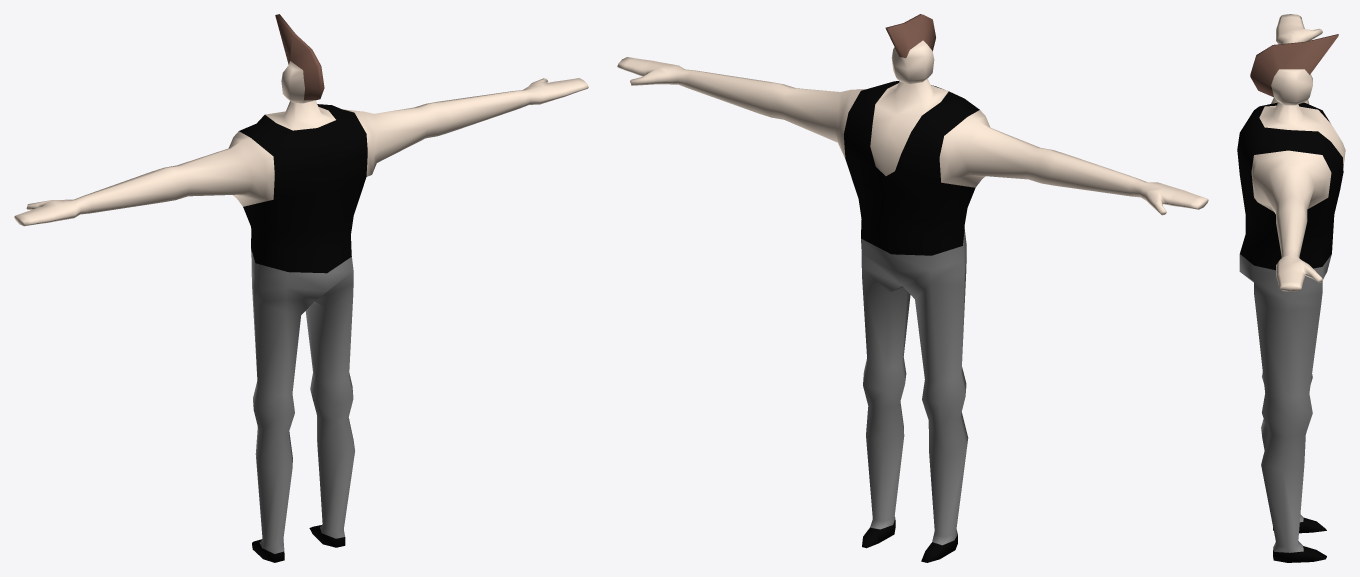
Rendered from EnemyHeavyModel.obj.
3 renders of one model, left to right at view 1: azimuth 30°, elevation 25°; view 2: azimuth 150°, elevation 25°; view 3: azimuth 270°, elevation 25°, orthographic. The views are drawn at different scales.
Parts seen in each view (by area): view 1: EnemyHeavy_2, EnemyHeavy_1, EnemyHeavy_3, EnemyHeavy_0; view 2: EnemyHeavy_2, EnemyHeavy_1, EnemyHeavy_3, EnemyHeavy_0; view 3: EnemyHeavy_2, EnemyHeavy_1, EnemyHeavy_3, EnemyHeavy_0, EnemyHeavy_5.
Boxes of the visible parts, bbox=[...] form: EnemyHeavy_2: bbox=[251, 248, 354, 553]; EnemyHeavy_1: bbox=[14, 61, 588, 226]; EnemyHeavy_3: bbox=[239, 104, 367, 562]; EnemyHeavy_0: bbox=[275, 14, 324, 100]; EnemyHeavy_2: bbox=[861, 230, 968, 545]; EnemyHeavy_1: bbox=[617, 40, 1208, 215]; EnemyHeavy_3: bbox=[843, 81, 979, 562]; EnemyHeavy_0: bbox=[885, 14, 935, 58]; EnemyHeavy_2: bbox=[1239, 254, 1331, 552]; EnemyHeavy_1: bbox=[1251, 14, 1345, 291]; EnemyHeavy_3: bbox=[1237, 102, 1343, 562]; EnemyHeavy_0: bbox=[1250, 34, 1338, 97]; EnemyHeavy_5: bbox=[1287, 522, 1326, 562].
Size of the model in its own units: 7.37 by 6.44 by 1.24.
